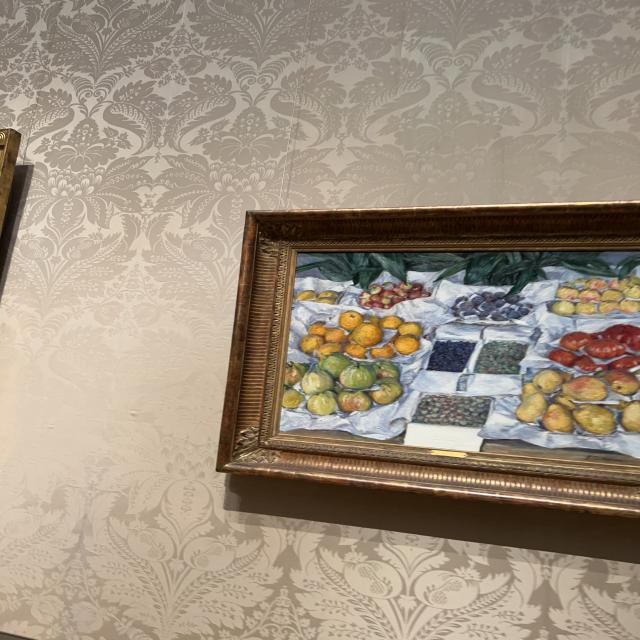fruits: (282, 254, 639, 465)
